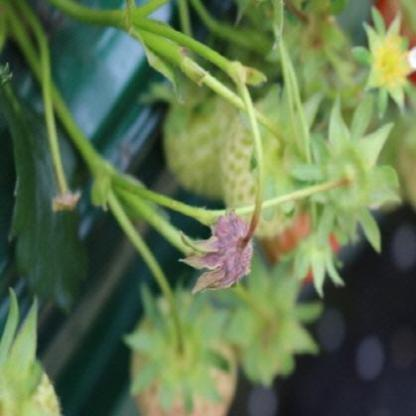Strawberry_Gray_Mold: (178, 204, 258, 296)
